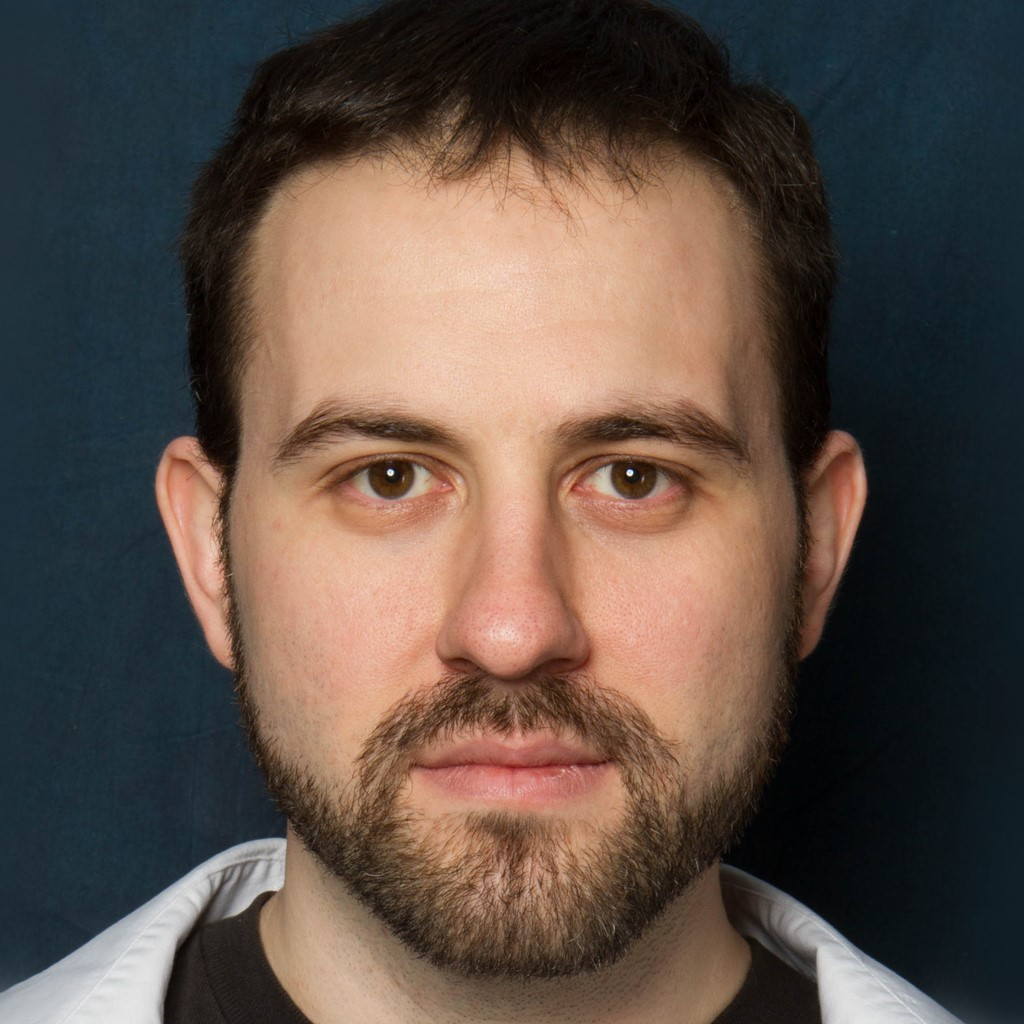sin_mascara: (178, 102, 835, 970)
